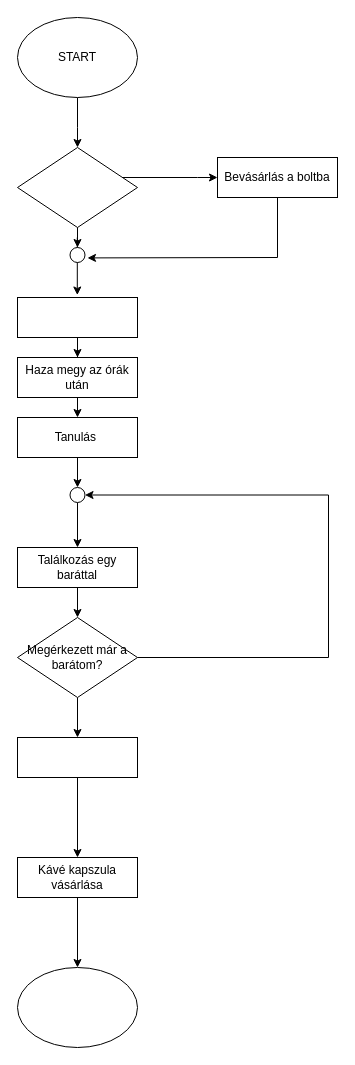
The diagram is 355 pixels wide and 1065 high, and some of its shapes have lost their labels. Here are the shapes that lost their labels. From the top down, the centre of each, then its label:
At (77,187): "Van-e itthon reggelinek való?".
At (77,317): "Egyetemi órákon való részvétel".
At (77,757): "Kávézás a baráttal".
At (77,1007): "STOP".
